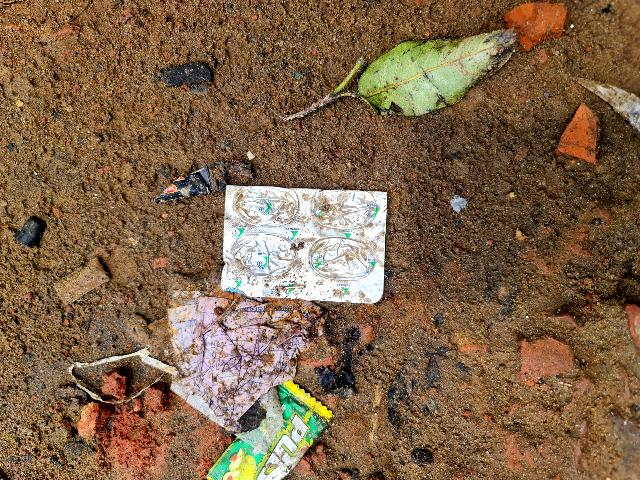medicine: (218, 177, 391, 306)
